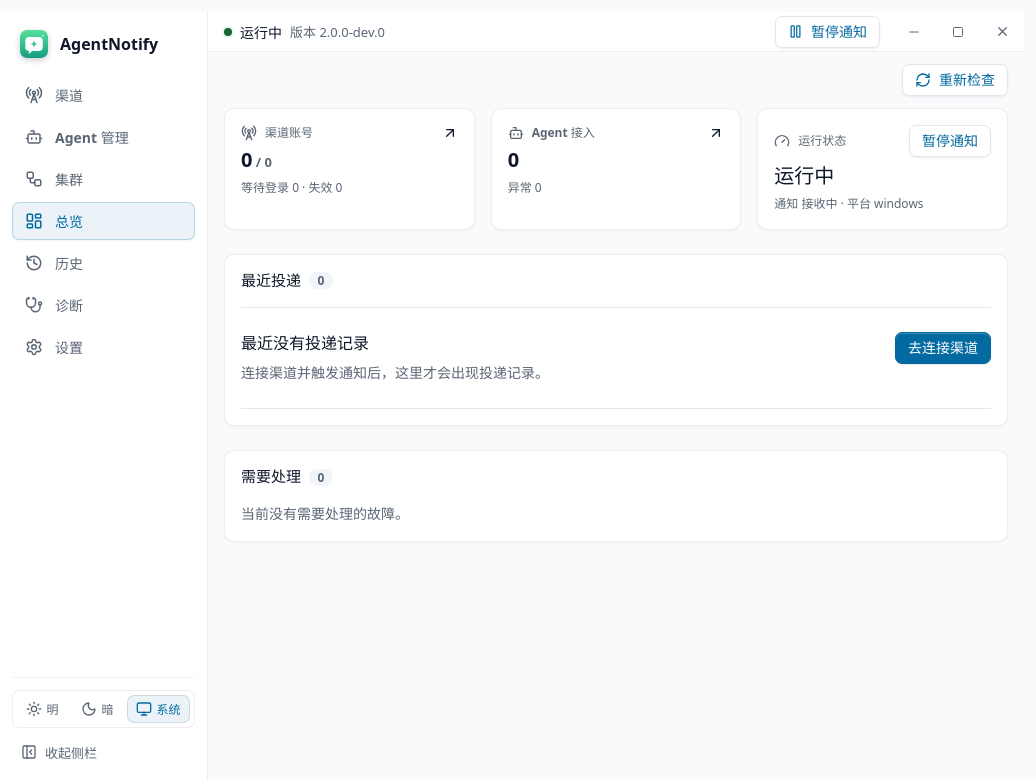
Test case: AppShell runtime synchronization › updates Overview when the top status pauses runtime
Check: the heading "运行状态" is shown, box [798,133,846,149]
What coordinates should you click on to do the following:
click the button "暂停通知" in the row of "2.0.0-dev.0"
I would click on:
 (828, 32)
Its box is [775,16,880,48].
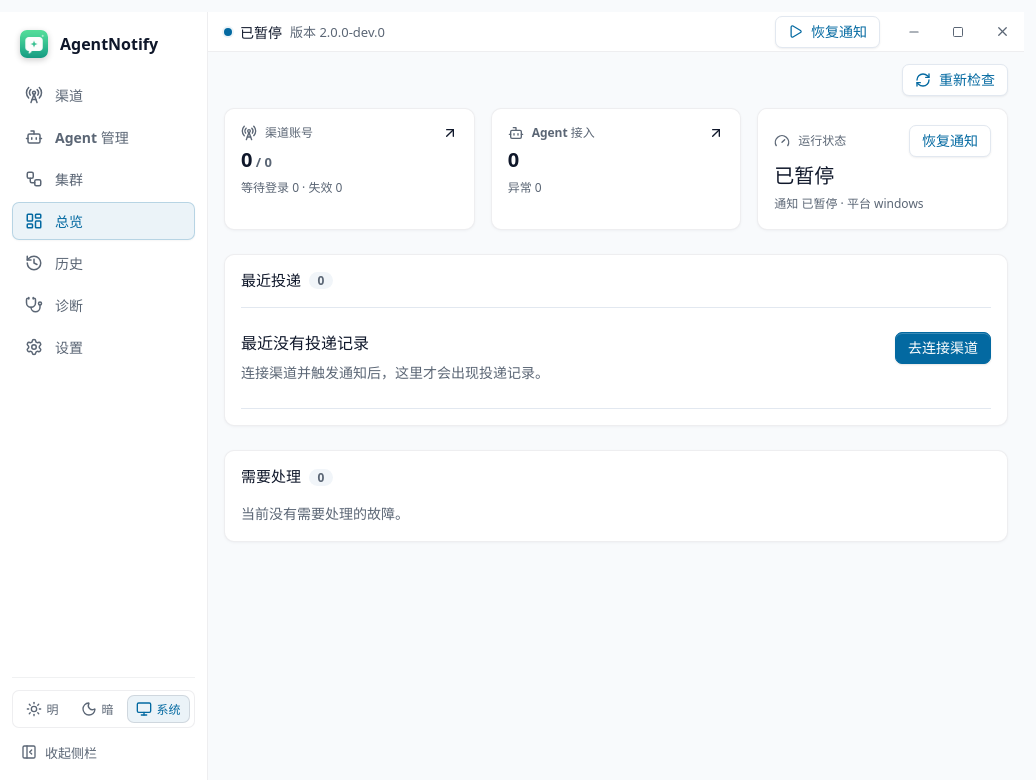
Check: the button "恢复通知" next to "运行状态" is enabled, box [909,125,991,157]
Check: the text "已暂停" next to "版本" is shown, box [240,22,282,42]
